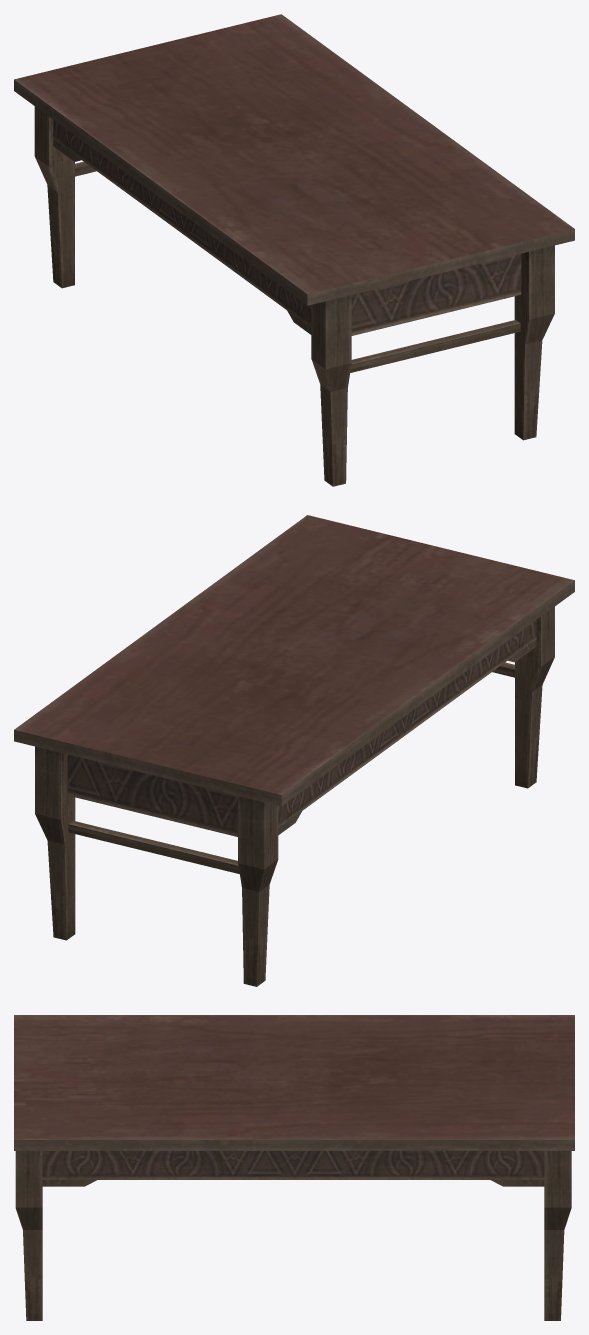
File: bg_lut_lucastle_table08_sm_artree.FBX
3 views of the same model, one above another, from view 1: azimuth 30°, elevation 25°; view 2: azimuth 150°, elevation 25°; view 3: azimuth 270°, elevation 25° (orthographic). The views are drawn at different scales.
Visible parts, largest first — view 1: bg_lut_lucastle_table08_sm_artree; view 2: bg_lut_lucastle_table08_sm_artree; view 3: bg_lut_lucastle_table08_sm_artree.
Boxes of the visible parts, <box> form: bg_lut_lucastle_table08_sm_artree: <box>14,14,574,486</box>; bg_lut_lucastle_table08_sm_artree: <box>14,515,574,986</box>; bg_lut_lucastle_table08_sm_artree: <box>14,1015,574,1320</box>.
Size of the model in its own units: 99.01 by 72.53 by 188.
